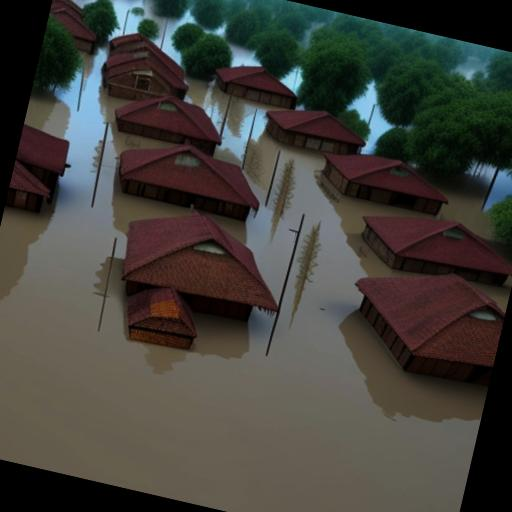flood: (0, 45, 488, 480), (426, 167, 512, 266), (111, 0, 165, 46), (162, 12, 192, 62), (363, 106, 391, 153), (353, 84, 377, 121), (232, 45, 259, 66), (283, 68, 301, 92), (125, 15, 138, 33)
house: (336, 249, 512, 390), (116, 198, 290, 340), (118, 130, 275, 230), (361, 202, 512, 300), (318, 142, 458, 222), (113, 86, 229, 160), (101, 29, 194, 114), (113, 276, 210, 356), (261, 98, 368, 166), (4, 119, 70, 219), (208, 52, 302, 118), (43, 0, 108, 61)
